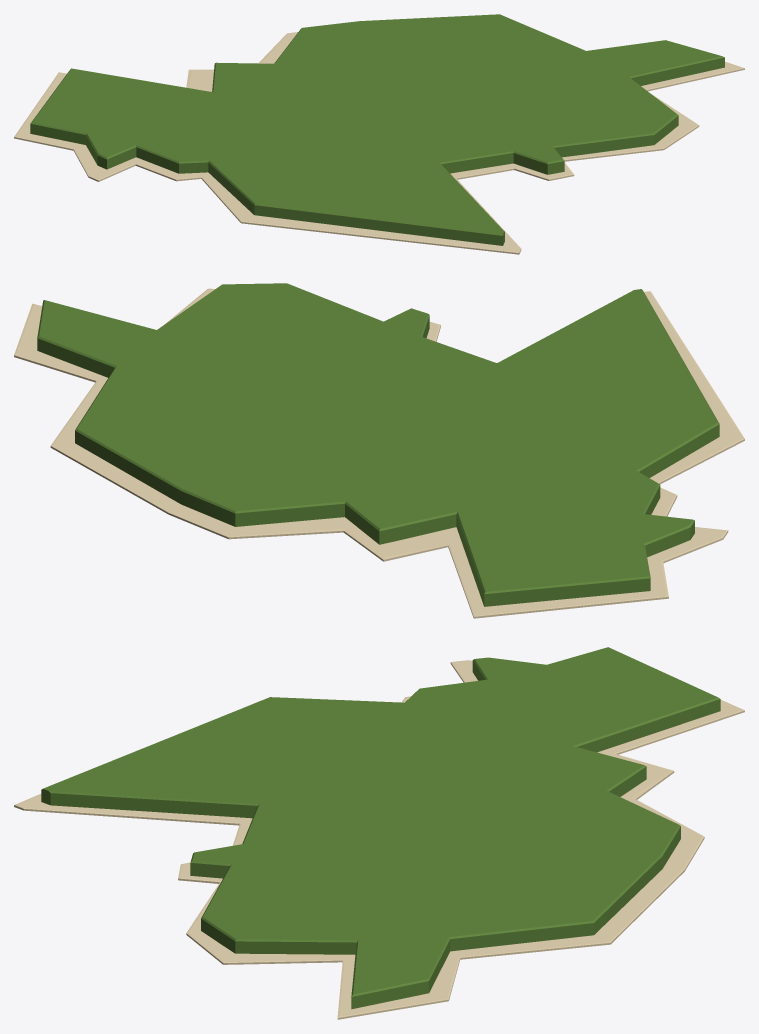
Rendered from BASE_Utrecht.fbx.
3 views of the same model, one above another, from view 1: azimuth 30°, elevation 25°; view 2: azimuth 150°, elevation 25°; view 3: azimuth 270°, elevation 25° (orthographic). The views are drawn at different scales.
Parts seen in each view (by area): view 1: polySurface1, polySurface2; view 2: polySurface1, polySurface2; view 3: polySurface1, polySurface2.
Part boxes in pixels (x1,y1,x2,y2): polySurface1: (30, 14, 724, 245); polySurface2: (14, 32, 744, 254); polySurface1: (37, 283, 719, 606); polySurface2: (14, 288, 744, 618); polySurface1: (41, 647, 720, 1009); polySurface2: (14, 660, 744, 1019).
Size of the model in its own units: 0.1494 by 0.00312 by 0.1257.
